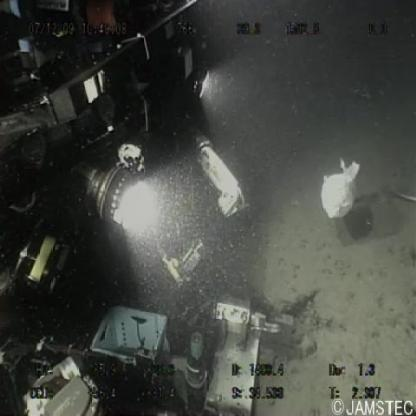Rov: (1, 1, 328, 414)
Rác: (318, 153, 362, 224)
